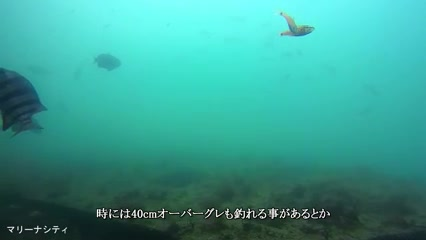smallfish: (87, 47, 127, 75)
